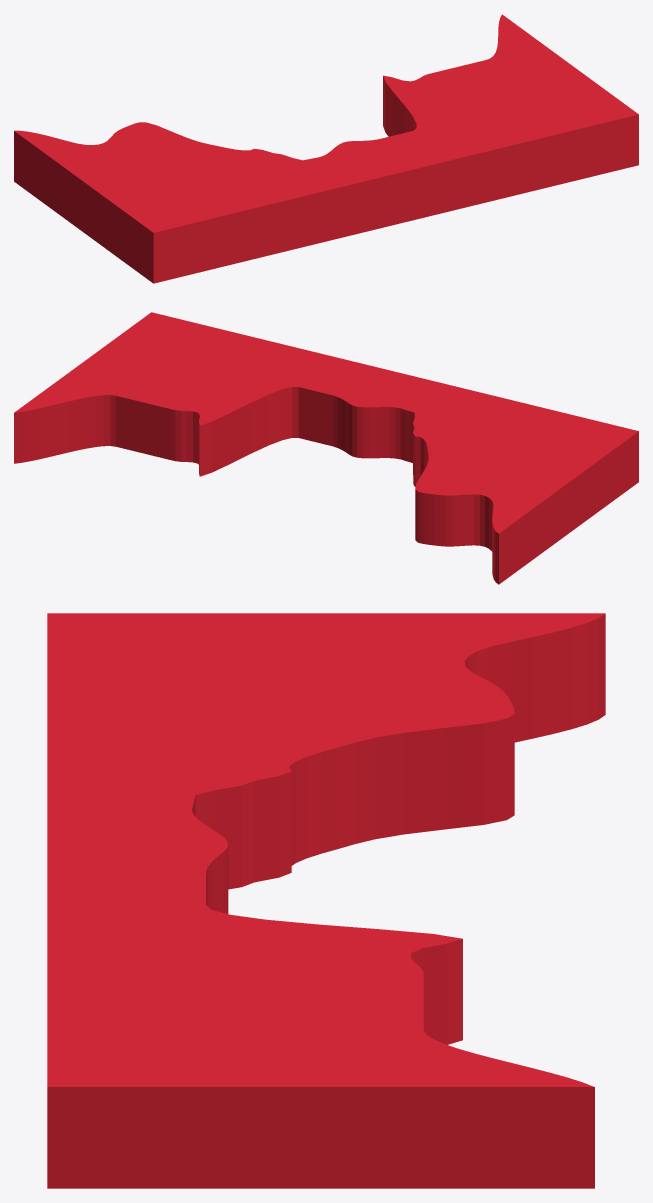
File: GridTest.fbx
3 renders of one model, top to bottom at view 1: azimuth 30°, elevation 25°; view 2: azimuth 150°, elevation 25°; view 3: azimuth 270°, elevation 25°, orthographic. The views are drawn at different scales.
Parts seen in each view (by area): view 1: Grid; view 2: Grid; view 3: Grid.
Boxes of the visible parts, bbox=[...] form: Grid: bbox=[14, 14, 638, 283]; Grid: bbox=[14, 312, 638, 584]; Grid: bbox=[47, 613, 605, 1188].
Bounding box in the file's own units: 2 × 0.2 × 0.9957.
